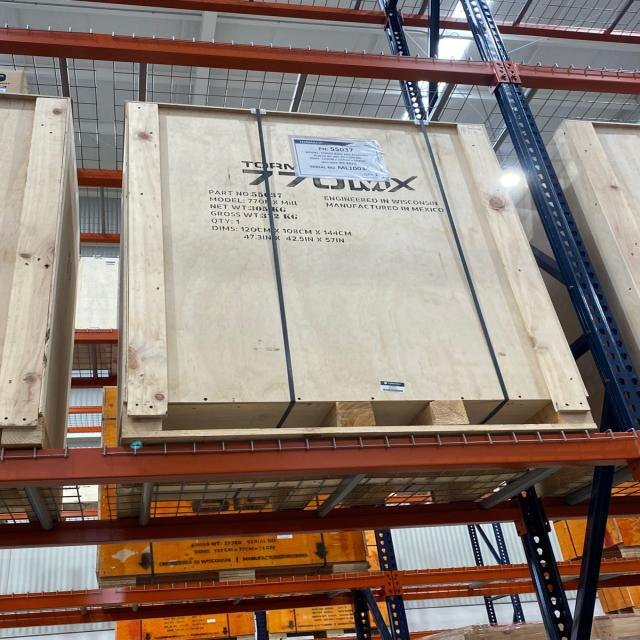770b: (120, 102, 589, 435)
